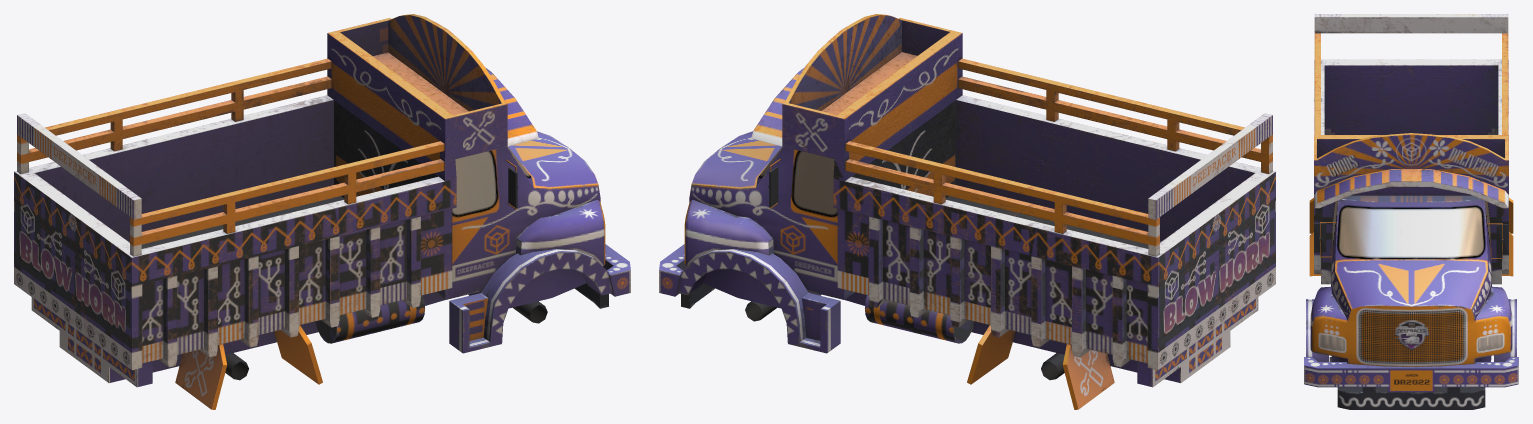
Rendered from f1_lorry_02.dae.
3 views of the same model, side by side, from view 1: azimuth 30°, elevation 25°; view 2: azimuth 150°, elevation 25°; view 3: azimuth 270°, elevation 25° (orthographic). The views are drawn at different scales.
Visible parts, largest first — view 1: lorry_body; view 2: lorry_body; view 3: lorry_body.
Part boxes in pixels (x1,y1,x2,y2): lorry_body: [14, 14, 630, 409]; lorry_body: [659, 14, 1275, 409]; lorry_body: [1304, 14, 1518, 409].
Size of the model in its own units: 0.3262 by 0.1463 by 0.1697.
1 material, 1 textured.
